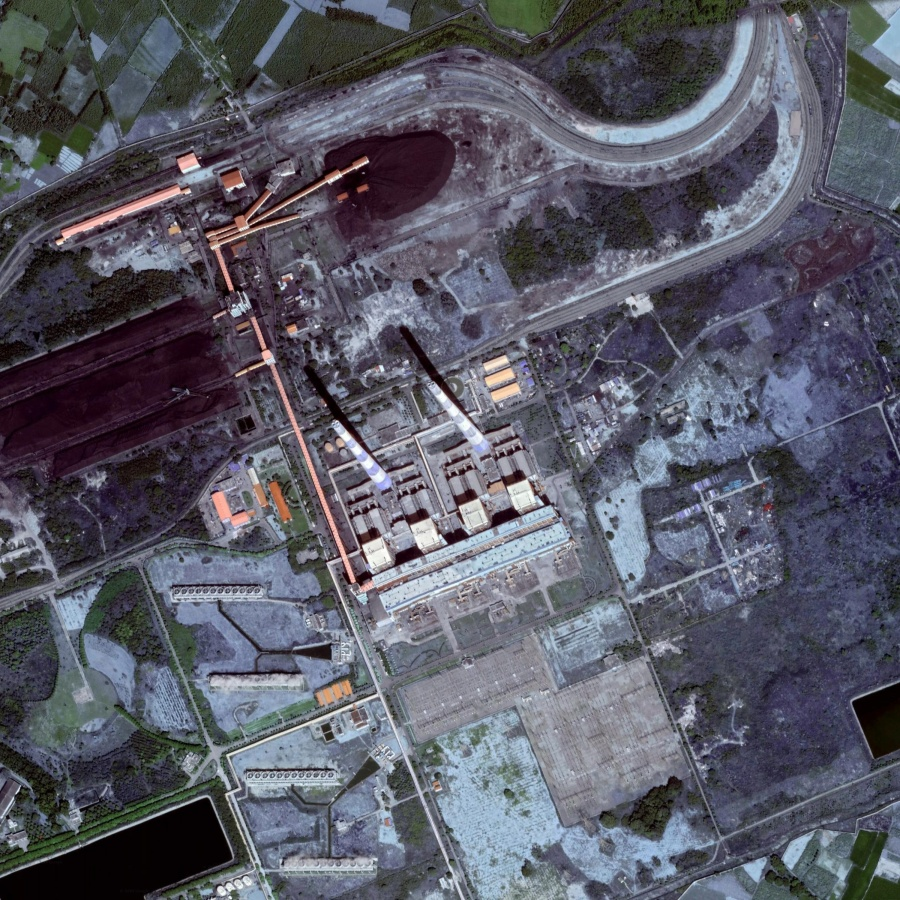PowerPlant: (293, 318, 530, 524)
